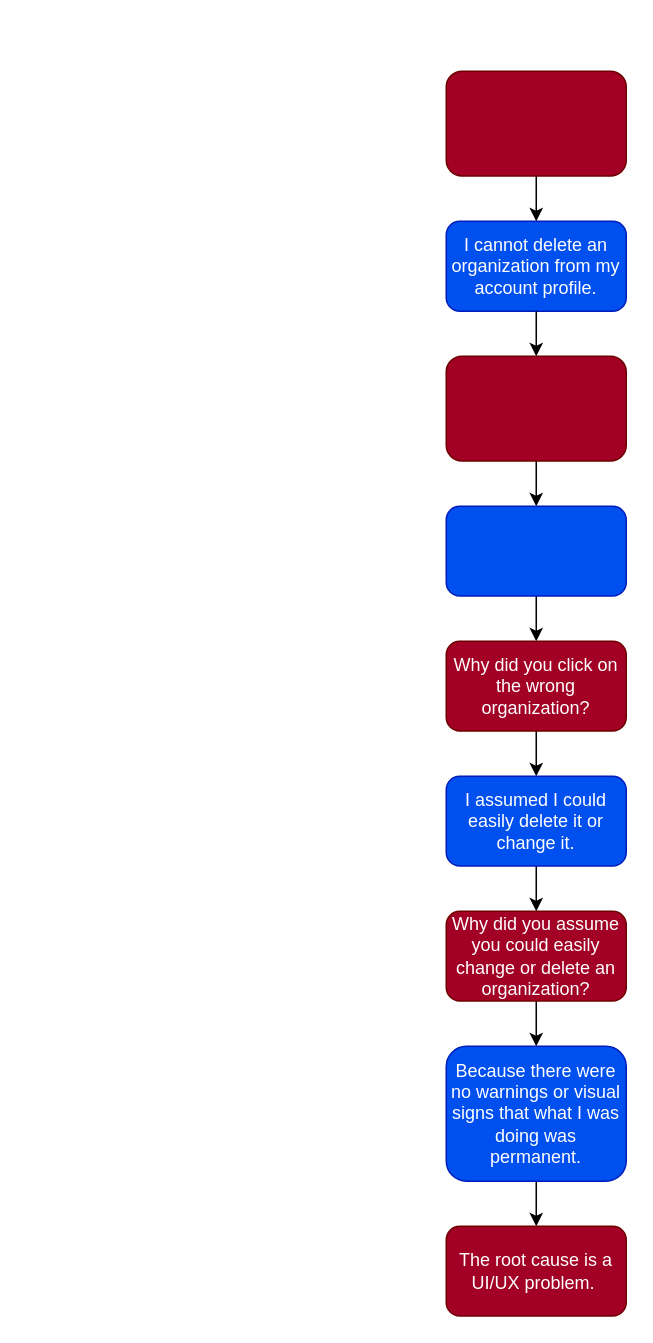
This 653x1343 diagram has some shape labels left out. Here are the shapes that lost their labels. From the top down, the centre of each, then its label:
At (x=535, y=123): "Have you been having any problems with the software?".
At (x=535, y=408): "Why do you need to delete an organization from your account?".
At (x=535, y=550): "Because I accidently clicked on the wrong organization.".
